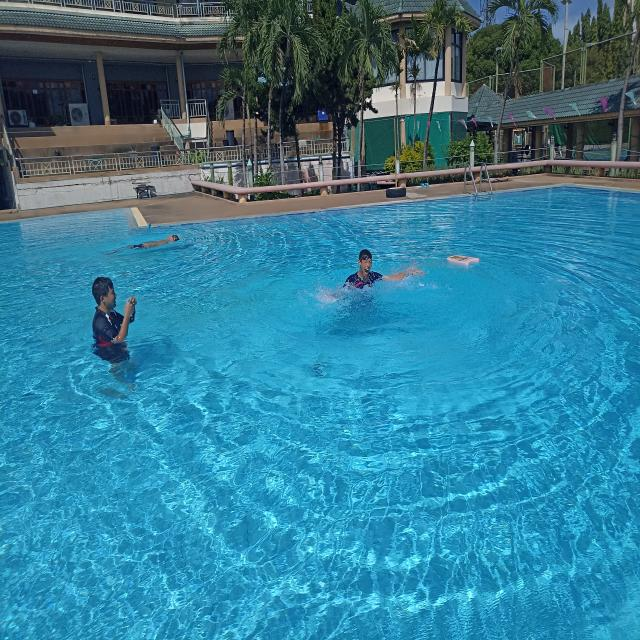Drowning: (309, 232, 414, 318)
Swimming: (75, 275, 162, 368)
